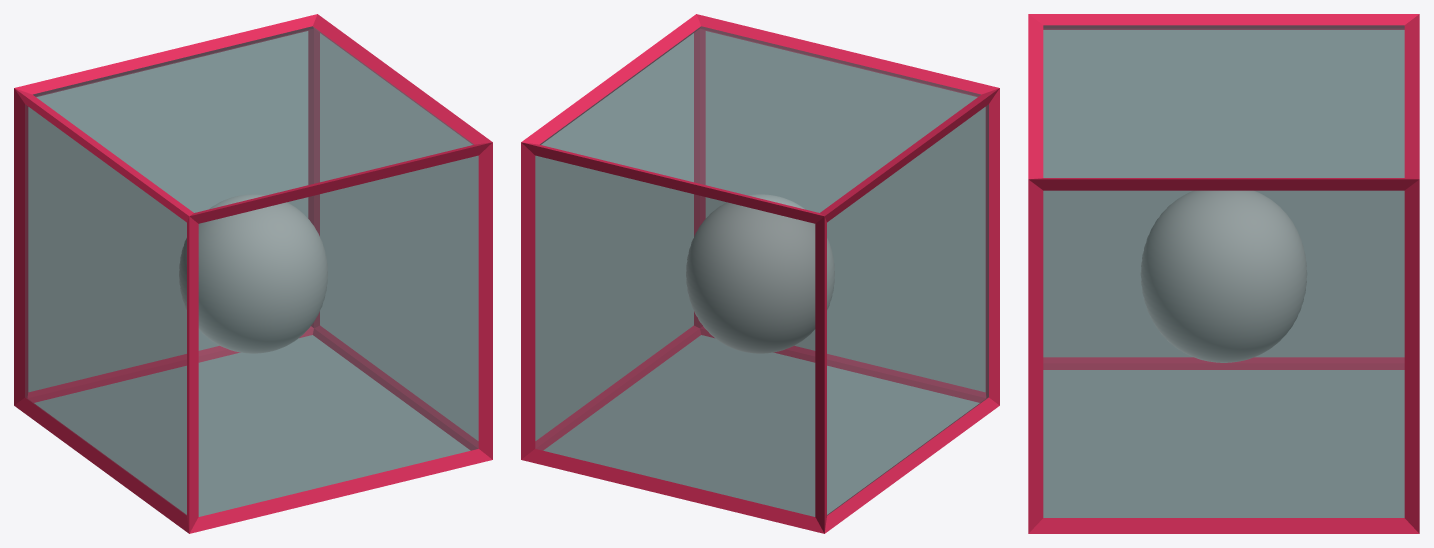
File: Test3_Orb.fbx
The picture shows the model from 3 angles, left to right: view 1: azimuth 30°, elevation 25°; view 2: azimuth 150°, elevation 25°; view 3: azimuth 270°, elevation 25°; orthographic projection. The views are drawn at different scales.
Visible parts, largest first — view 1: Cube.001, Cube, Sphere; view 2: Cube.001, Cube, Sphere; view 3: Cube.001, Cube, Sphere.
Part boxes in pixels (<box>): Cube.001: <box>25,26,478,516</box>; Cube: <box>14,14,492,533</box>; Sphere: <box>179,194,327,353</box>; Cube.001: <box>535,26,988,516</box>; Cube: <box>521,14,999,533</box>; Sphere: <box>686,194,834,353</box>; Cube.001: <box>1043,25,1404,517</box>; Cube: <box>1028,14,1419,533</box>; Sphere: <box>1140,190,1307,362</box>.
Bounding box in the file's own units: 206 × 206 × 206.
